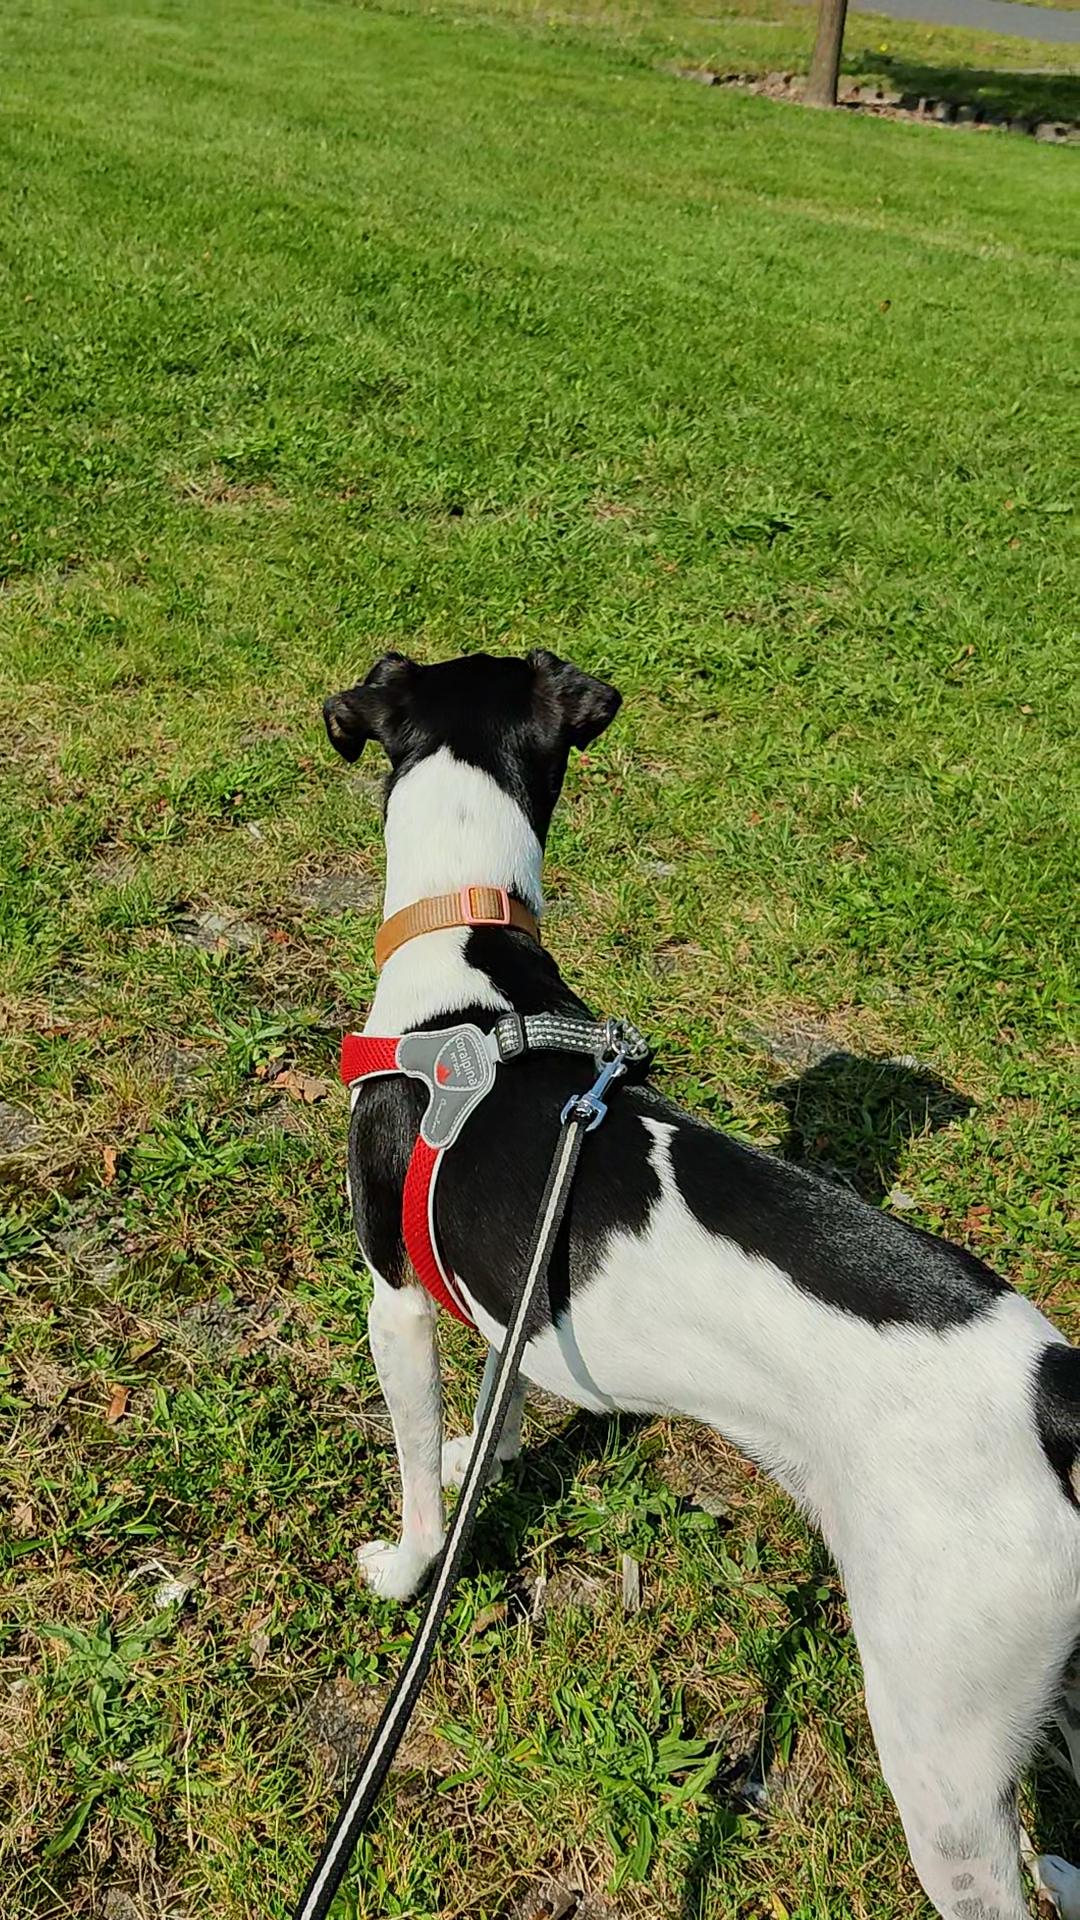Dog: (316, 640, 1079, 1919)
